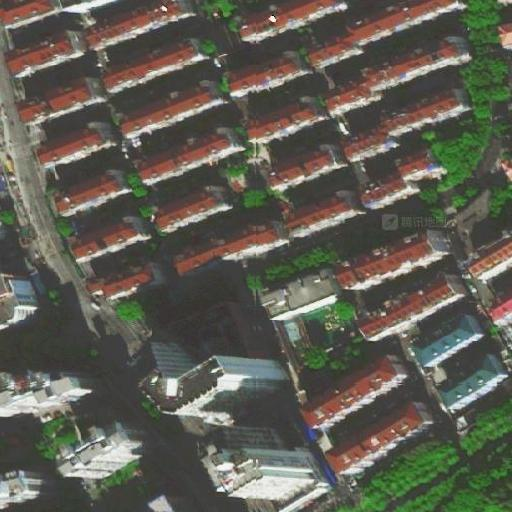building: (330, 35, 474, 115), (344, 87, 474, 164), (186, 348, 290, 429), (330, 400, 434, 477), (303, 359, 409, 431), (170, 218, 288, 280), (339, 225, 447, 292), (365, 274, 467, 341), (233, 442, 337, 506), (142, 126, 244, 186), (107, 35, 213, 92), (123, 80, 225, 137), (366, 151, 449, 210), (264, 266, 346, 321), (20, 75, 104, 126), (417, 312, 490, 370), (0, 369, 94, 414), (438, 355, 509, 411), (98, 438, 172, 491), (235, 48, 316, 96), (449, 181, 499, 258), (55, 168, 135, 216), (77, 214, 155, 263), (41, 121, 121, 168), (290, 188, 364, 238), (12, 30, 87, 79), (253, 96, 329, 144), (274, 141, 349, 189), (281, 350, 338, 411), (157, 185, 232, 231), (93, 259, 171, 301), (451, 390, 508, 435), (473, 122, 512, 177), (0, 278, 41, 328), (0, 473, 55, 509), (473, 235, 512, 278), (276, 406, 312, 448), (235, 161, 265, 192), (489, 293, 512, 330), (498, 24, 511, 54)
